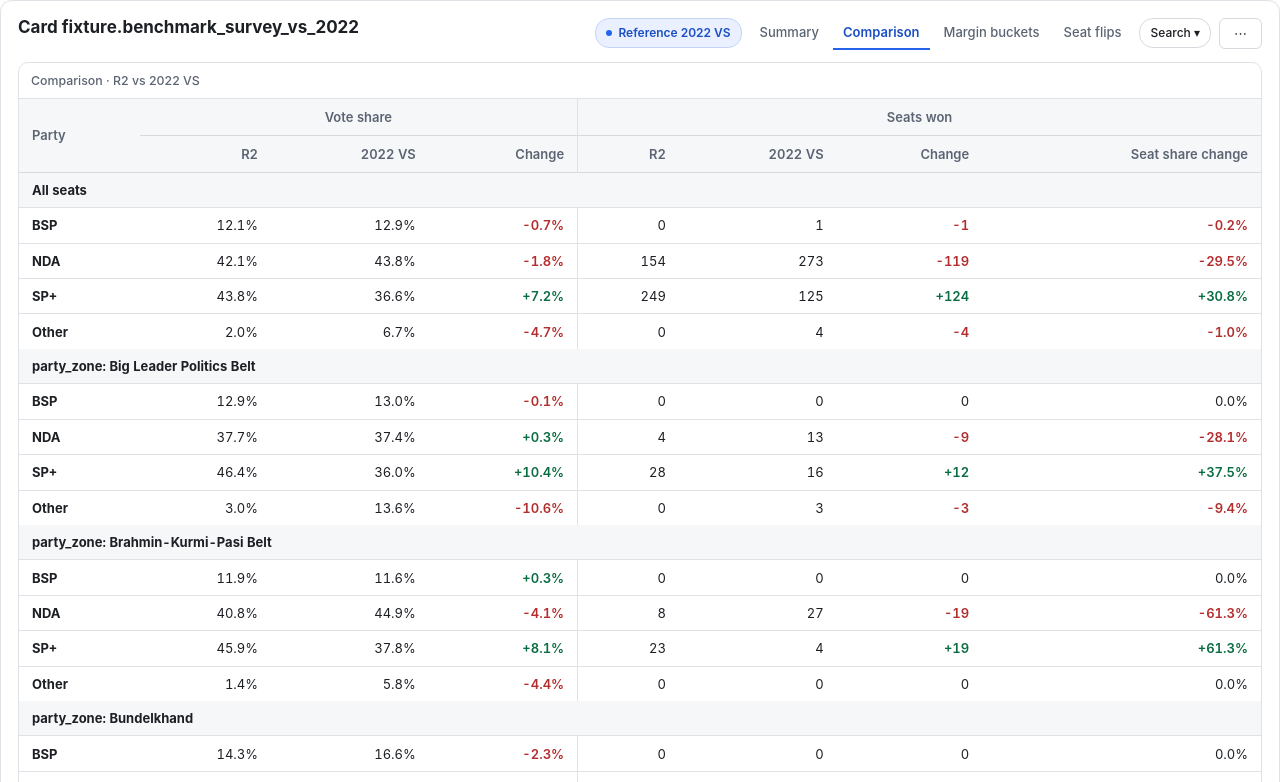
Test: BenchmarkCard › tables › lists the six margin rows and a total of 403 on each side
Click the tab "Margin buckets": coordinates (992, 33) [934, 16, 1050, 50]
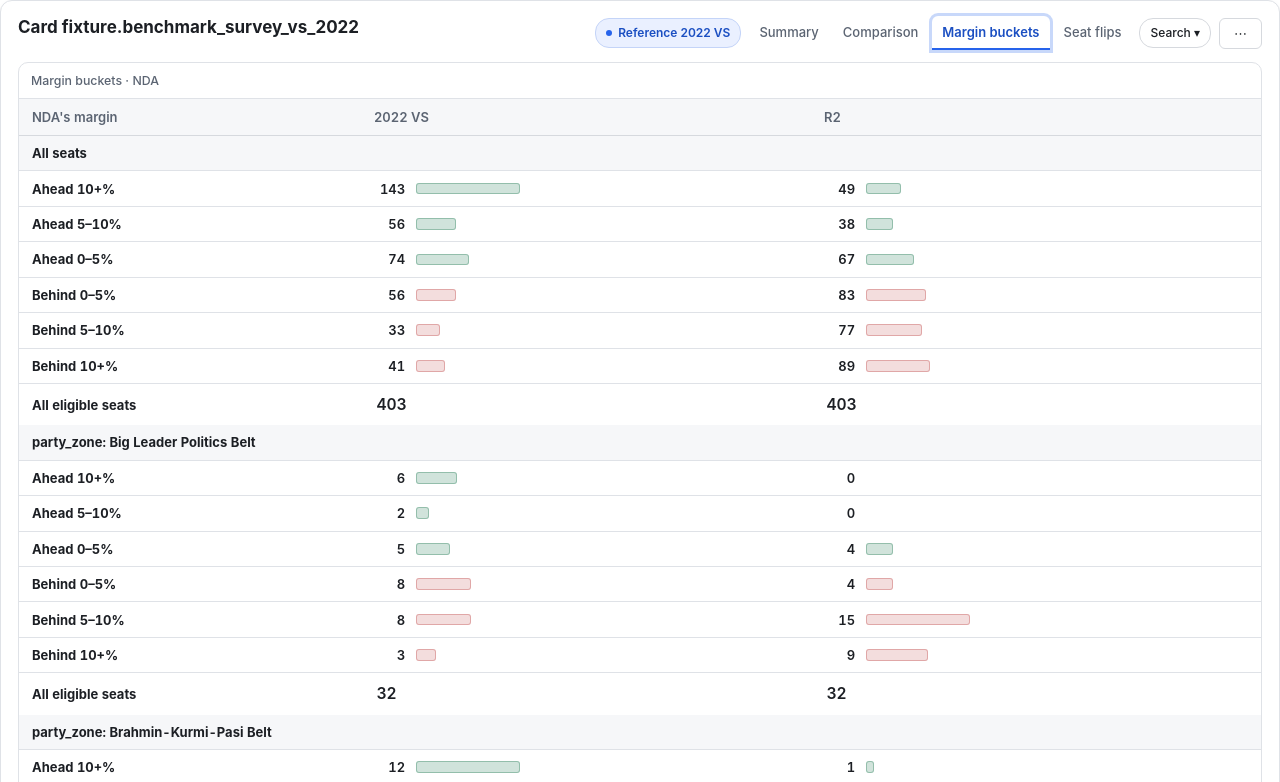
expect the row "All eligible seats 403 403" is shown: met, box [19, 384, 1261, 425]
